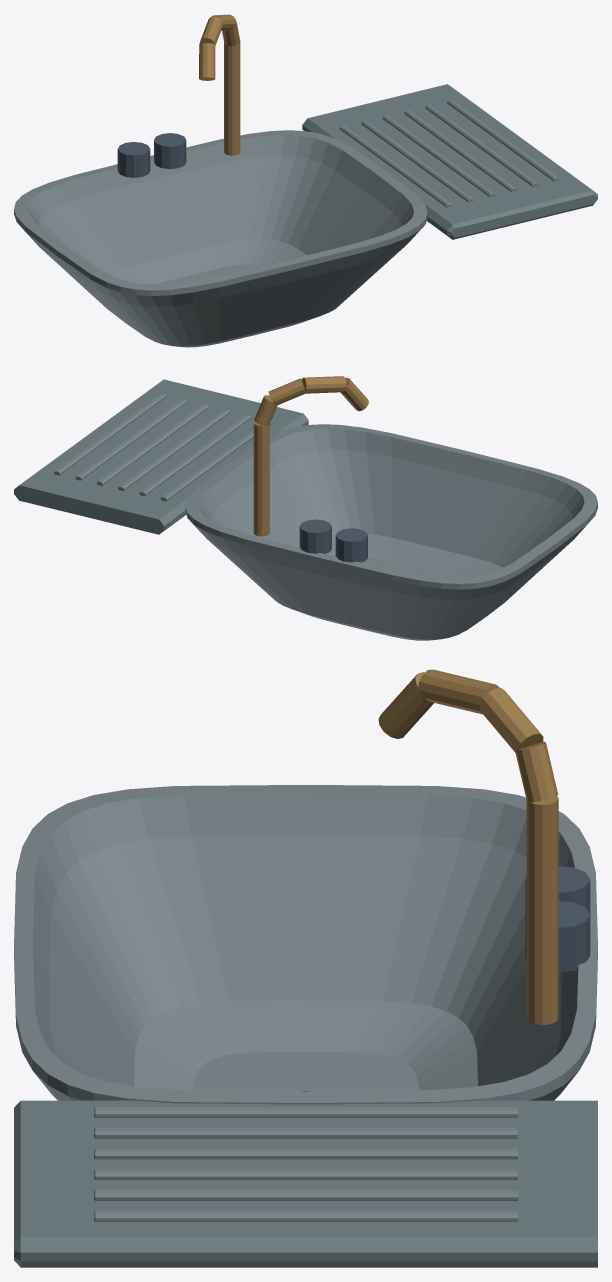
Rendered from A-08b_galley_sink.glb.
3 renders of one model, top to bottom at view 1: azimuth 30°, elevation 25°; view 2: azimuth 150°, elevation 25°; view 3: azimuth 270°, elevation 25°, orthographic. The views are drawn at different scales.
Parts seen in each view (by area): view 1: A-08b_galley_sink; view 2: A-08b_galley_sink; view 3: A-08b_galley_sink.
Part boxes in pixels (x1,y1,x2,y2): A-08b_galley_sink: [14, 14, 597, 347]; A-08b_galley_sink: [14, 376, 597, 640]; A-08b_galley_sink: [14, 669, 597, 1267].
Size of the model in its own units: 0.7015 by 0.3564 by 0.38.
